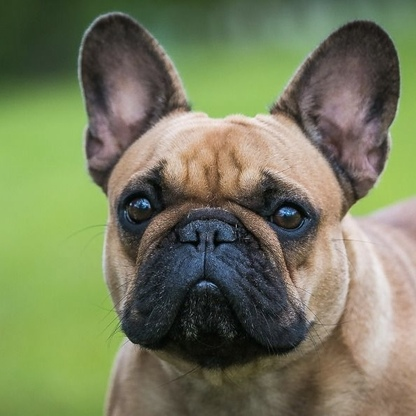bulldog: (76, 11, 406, 387)
